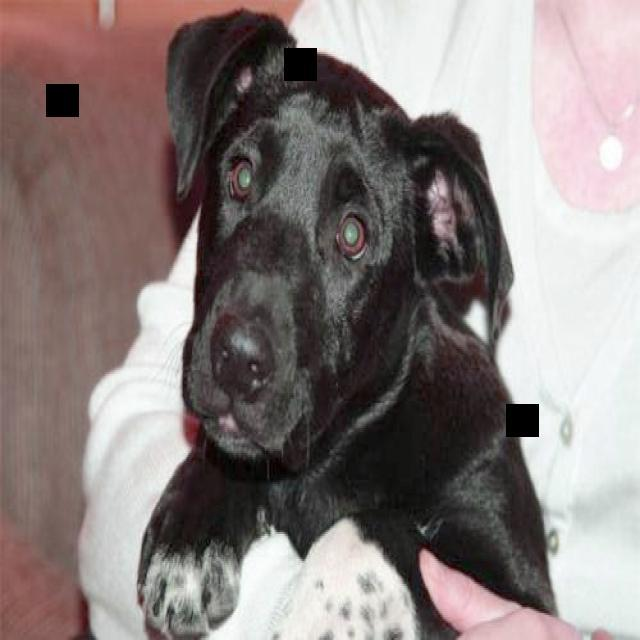puppy-dog: (135, 10, 566, 637)
